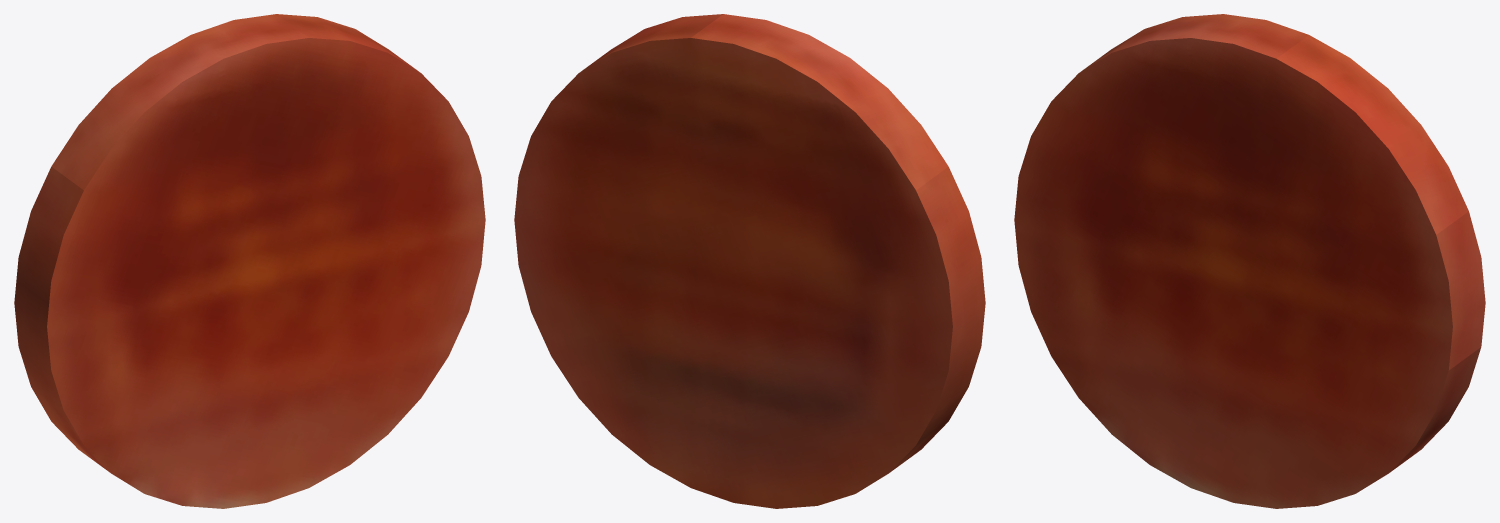
The model's file is start_button_1__button_cap.glb.
The picture shows the model from 3 angles, left to right: view 1: azimuth 30°, elevation 25°; view 2: azimuth 150°, elevation 25°; view 3: azimuth 330°, elevation 25°; orthographic projection.
Parts seen in each view (by area): view 1: geometry_0; view 2: geometry_0; view 3: geometry_0.
Part boxes in pixels (x1,y1,x2,y2): geometry_0: [14, 14, 485, 508]; geometry_0: [514, 14, 985, 508]; geometry_0: [1014, 14, 1485, 508].
Size of the model in its own units: 0.062 by 0.062 by 0.008.
Materials: 1 (1 with a texture image).
